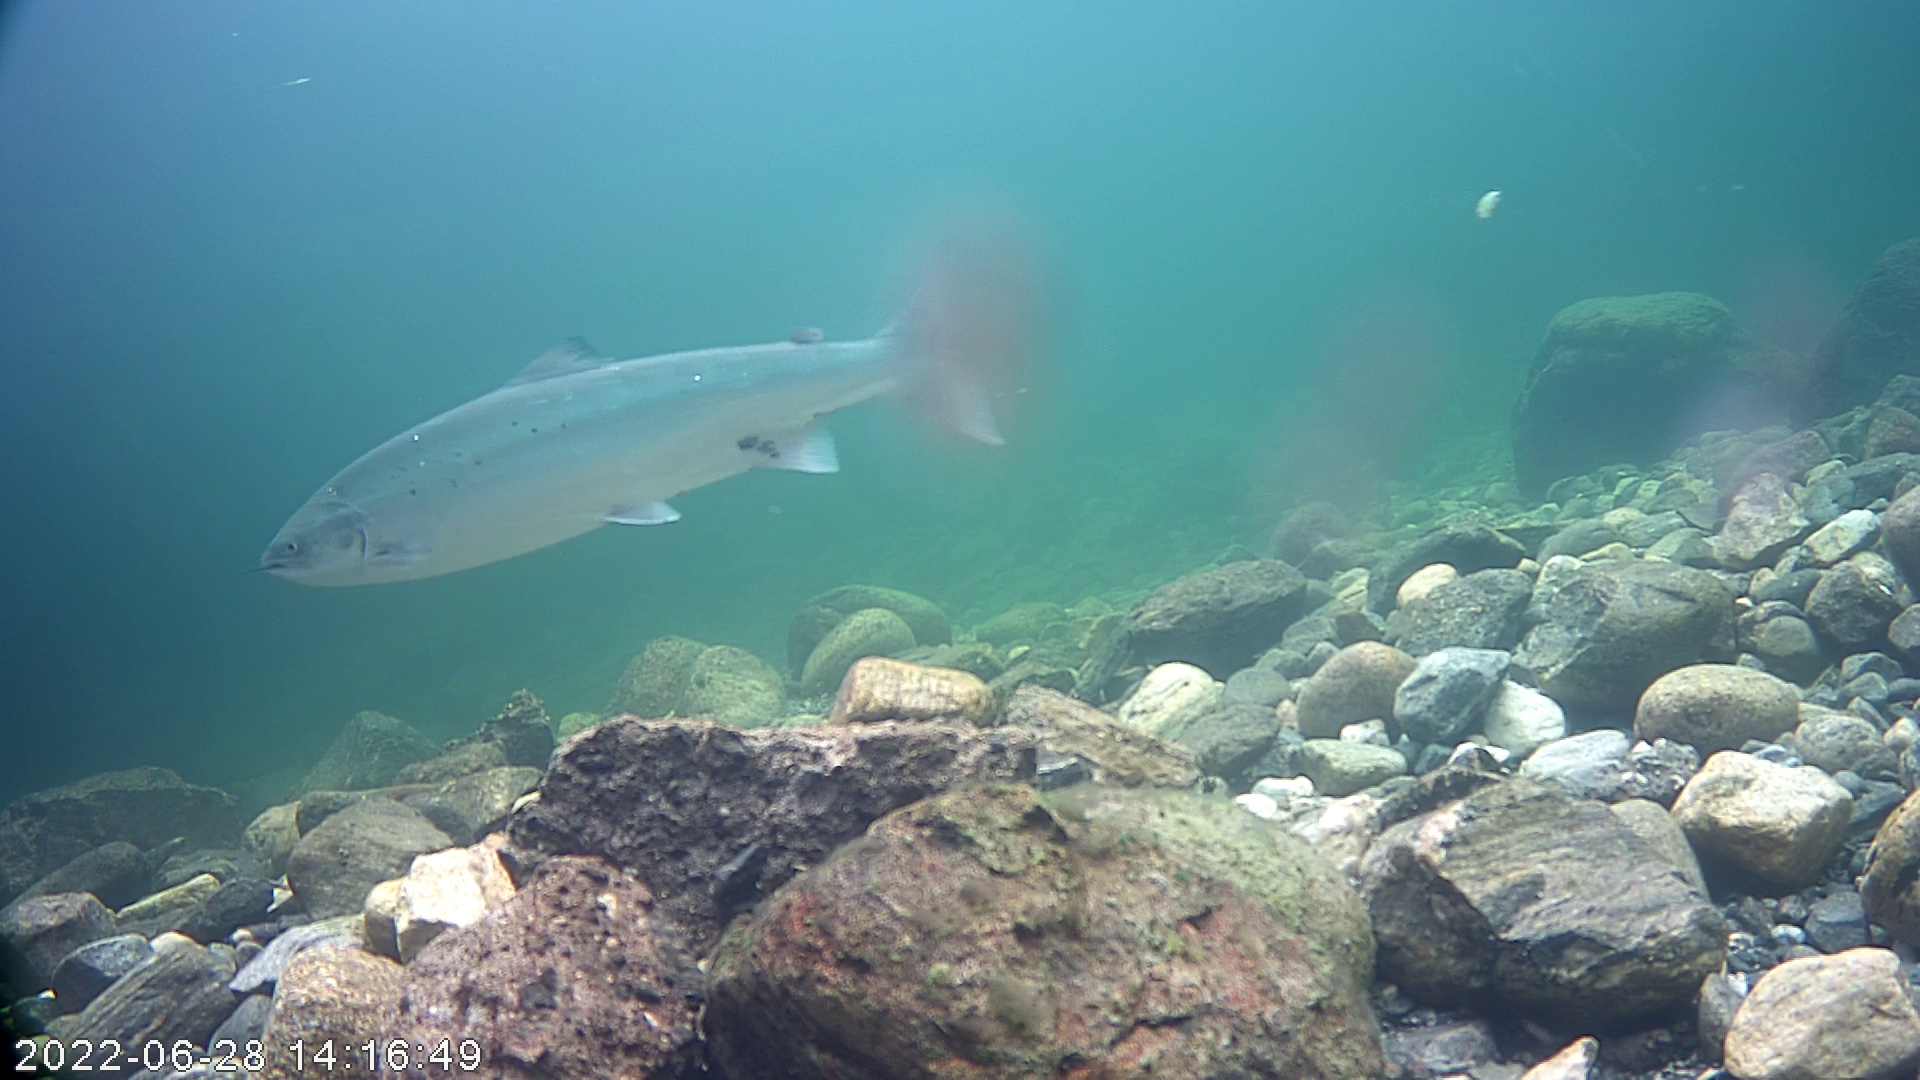salmon: (248, 177, 1054, 624)
